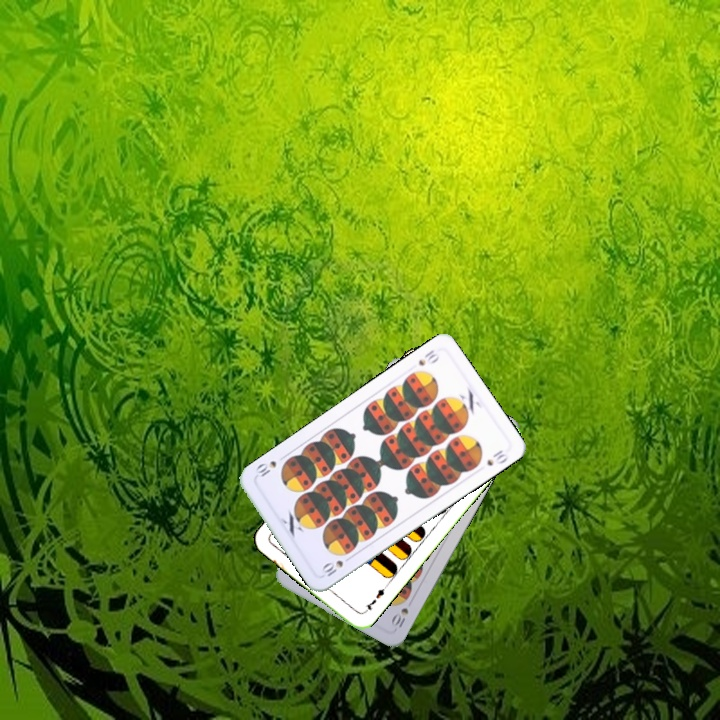E7: (359, 582, 390, 616)
S10: (318, 556, 346, 579), (414, 345, 442, 368), (388, 603, 411, 630)
